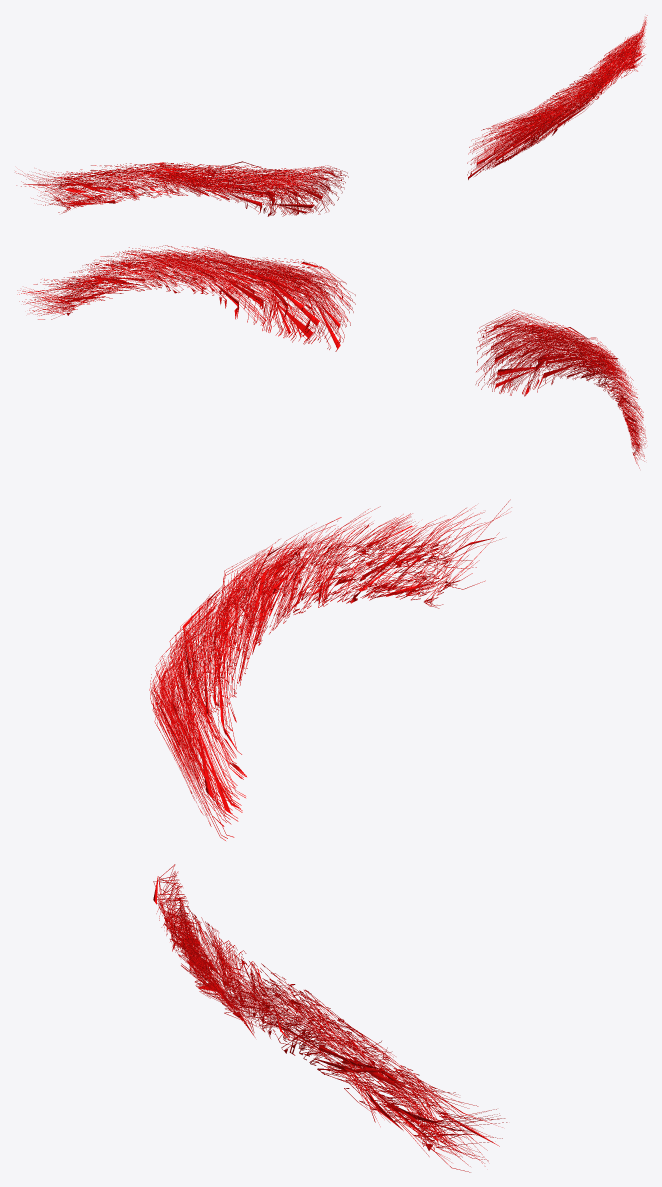
The model's file is mindfront_eyebrows_07_F.glb.
3 views of the same model, one above another, from view 1: azimuth 30°, elevation 25°; view 2: azimuth 150°, elevation 25°; view 3: azimuth 270°, elevation 25° (orthographic). The views are drawn at different scales.
Size of the model in its own units: 0.1273 by 0.0152 by 0.0316.
1 material, 1 textured.
